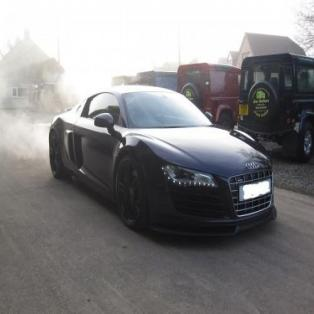Auto: (47, 80, 280, 246)
